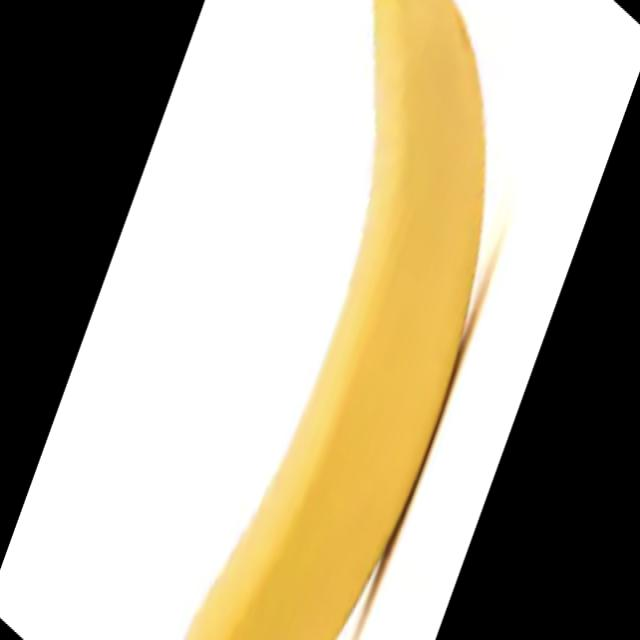god quality banana: (188, 2, 485, 638)
